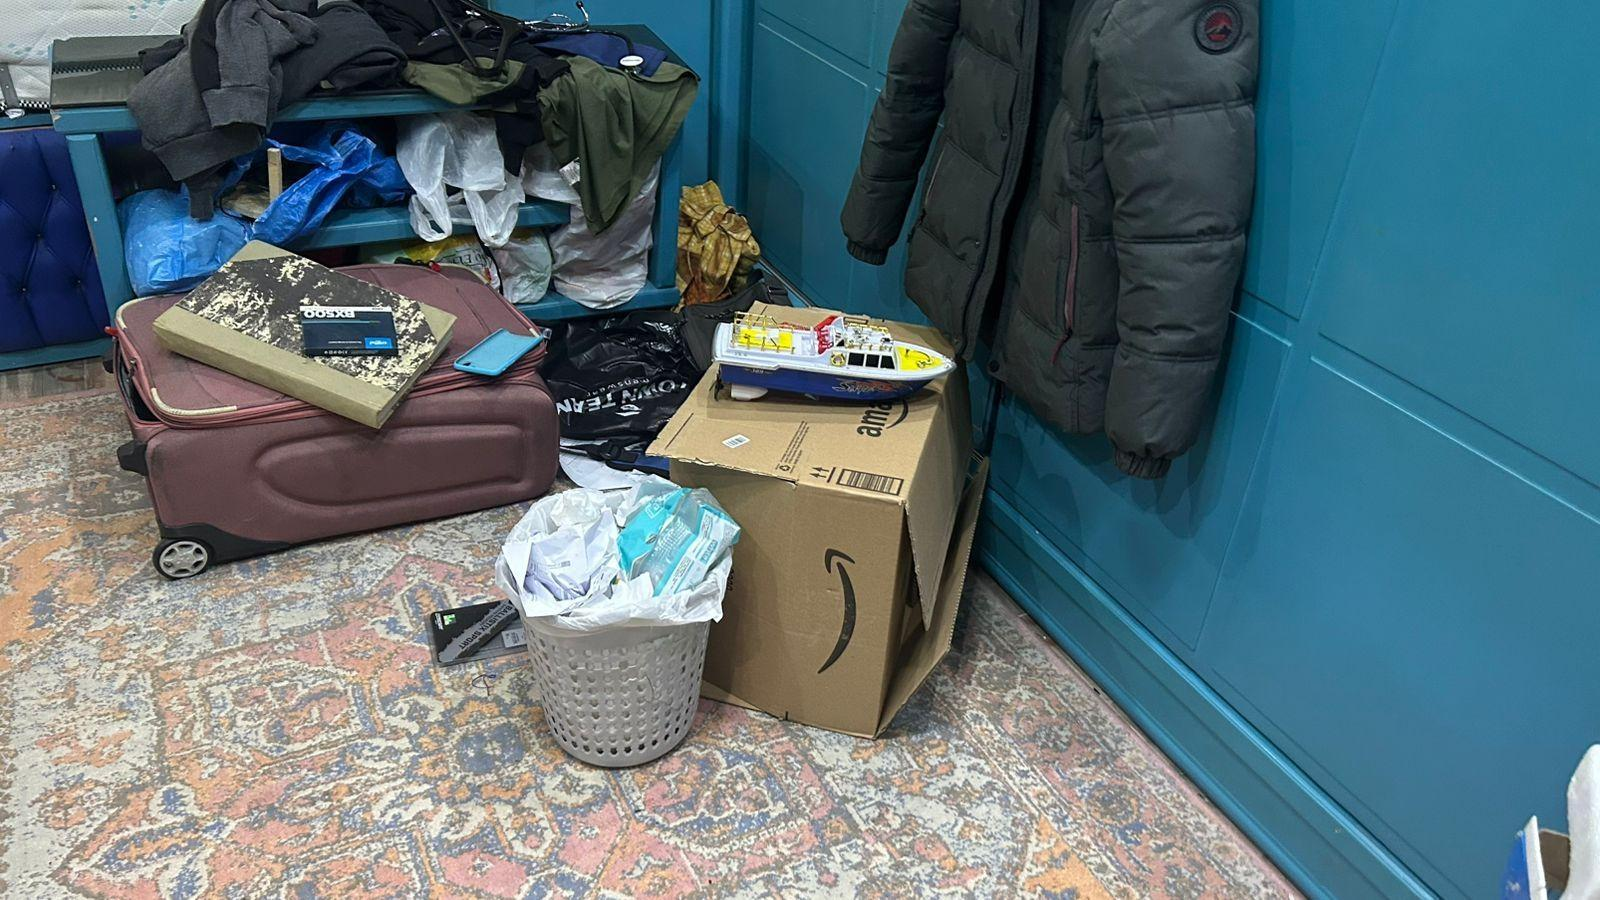Boat: (702, 301, 962, 422)
